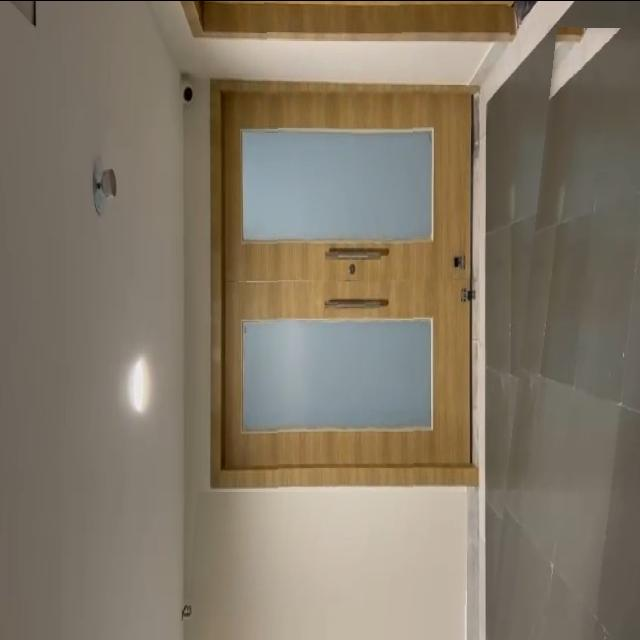door: (210, 84, 479, 495), (199, 0, 510, 40)
floor: (489, 26, 640, 640)
wall: (186, 491, 467, 640)
